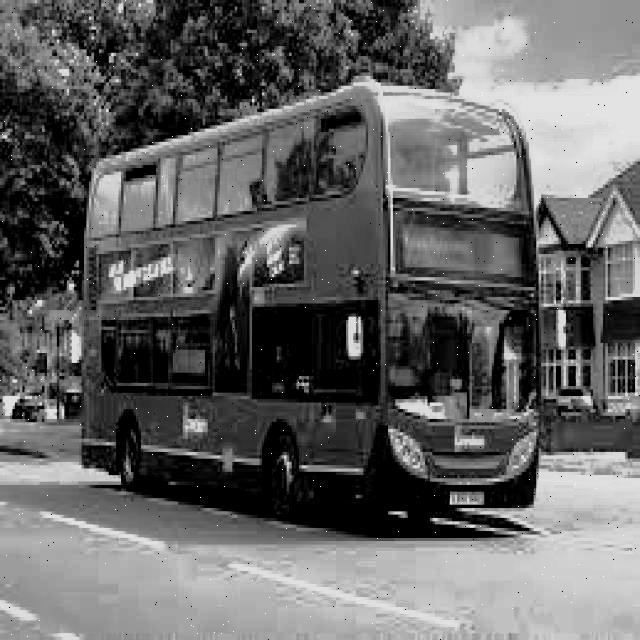Bus: (29, 43, 581, 539)
